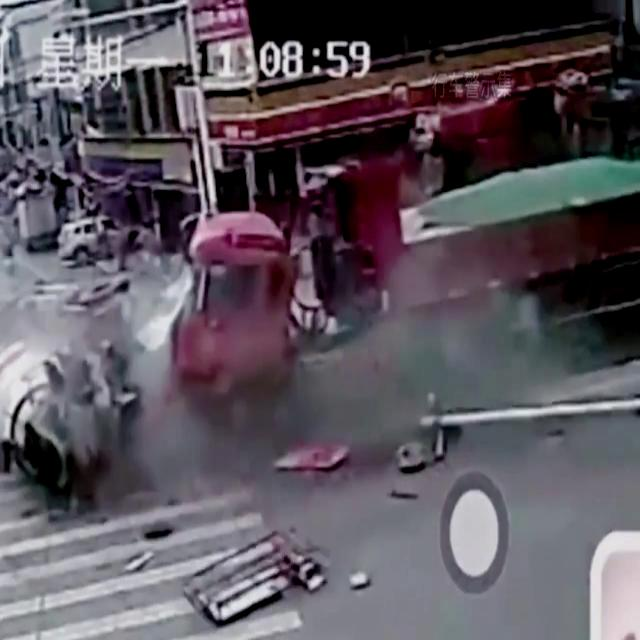accident: (0, 156, 640, 624)
